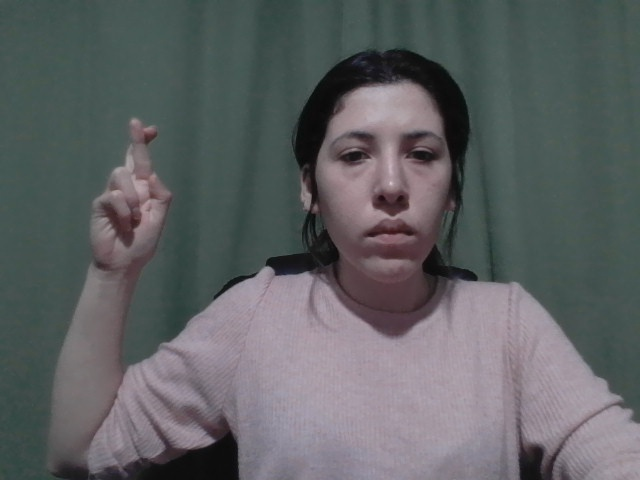PERMISO: (64, 117, 197, 248)
